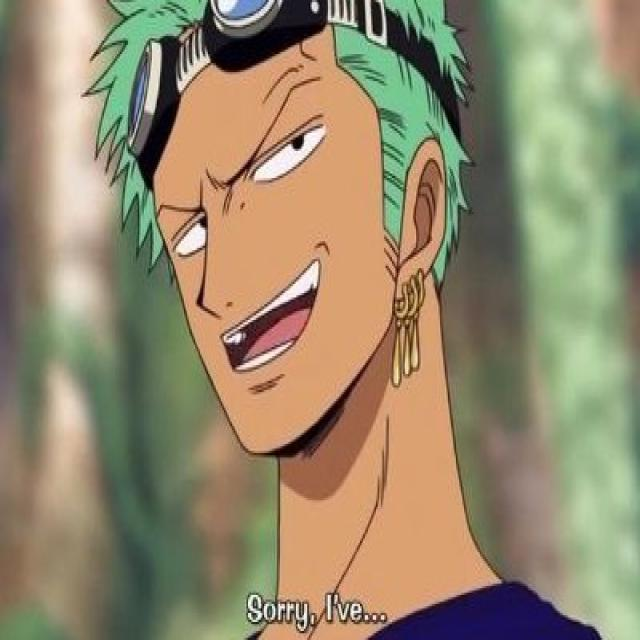Zoro: (85, 0, 603, 640)
